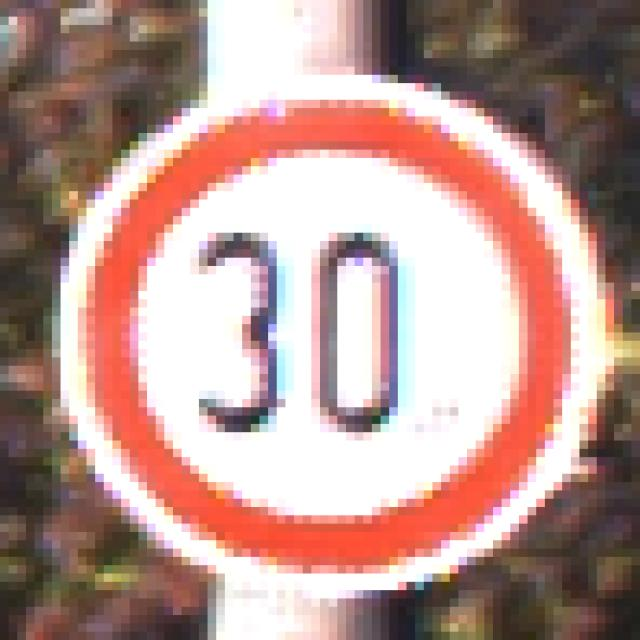Speed Limit -30-: (48, 58, 584, 574)
